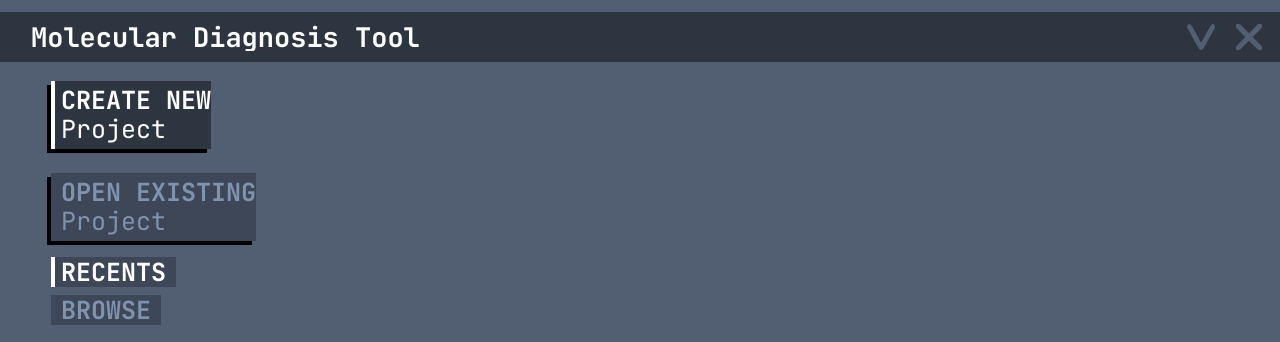
Test: the new-project form › requires a title before Create is available
The width and height of the screenshot is (1280, 342).
Step 1. Click the button "Create New Project" → {"x": 131, "y": 115}, box [51, 81, 211, 149]
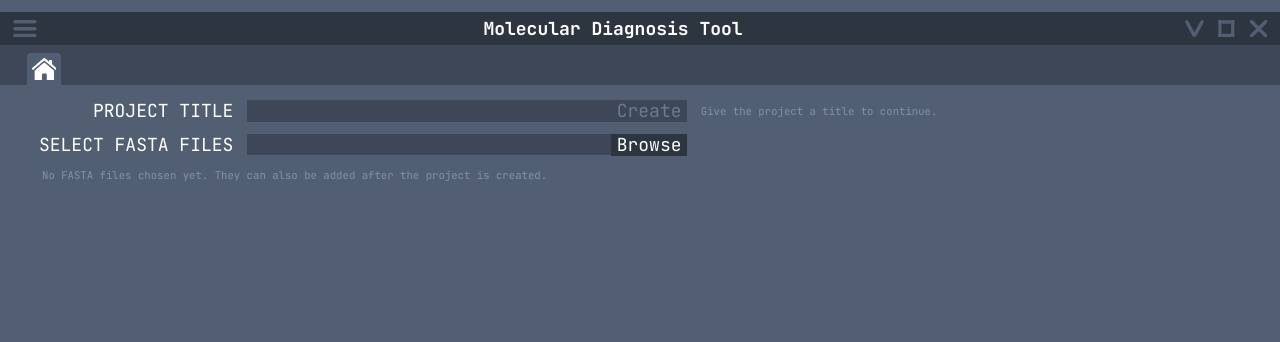
expect the button with aria-label "Create project" is disabled: met, box [611, 100, 687, 122]
Step 2. Type "European Leptacis" into the field labelled "PROJECT TITLE" → {"x": 429, "y": 111}, box [247, 100, 611, 122]
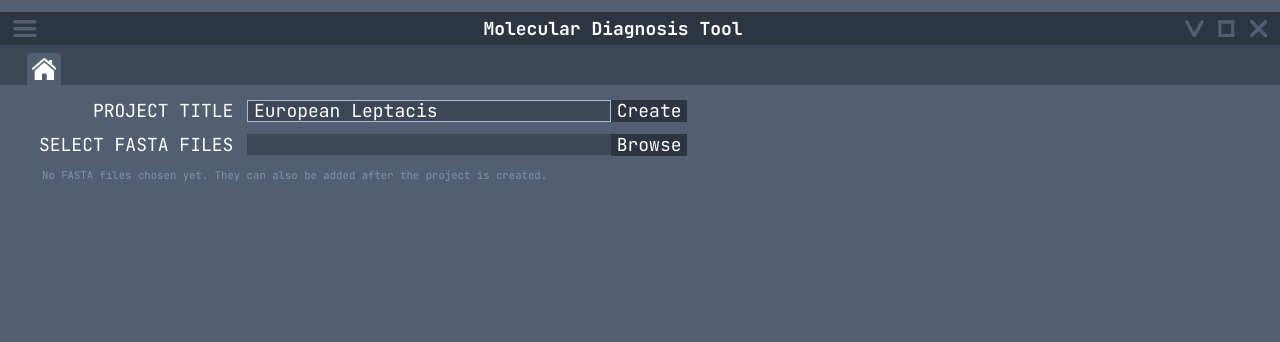
expect the button with aria-label "Create project" is enabled: met, box [611, 100, 687, 122]
